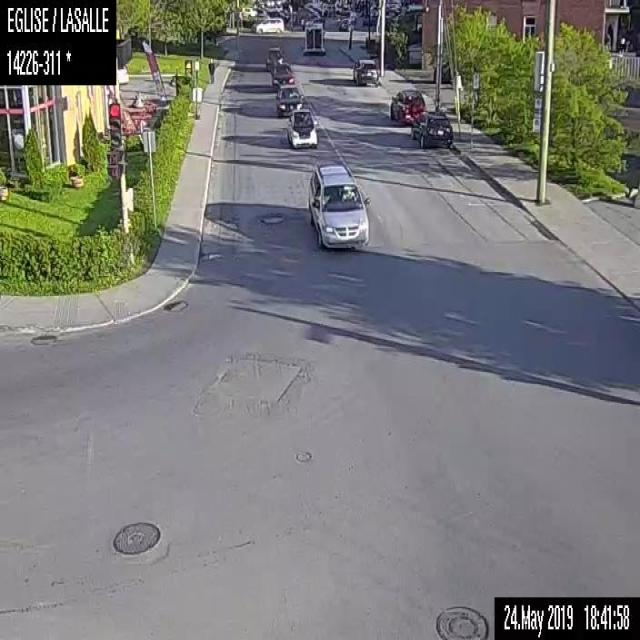pedestrian: (207, 56, 214, 83)
vehicle: (306, 160, 371, 248), (411, 109, 454, 148), (287, 101, 317, 148), (388, 86, 426, 122), (275, 81, 301, 115), (351, 58, 378, 86), (302, 19, 324, 53), (271, 61, 294, 90), (252, 15, 284, 34), (264, 44, 283, 72), (240, 6, 258, 19)
